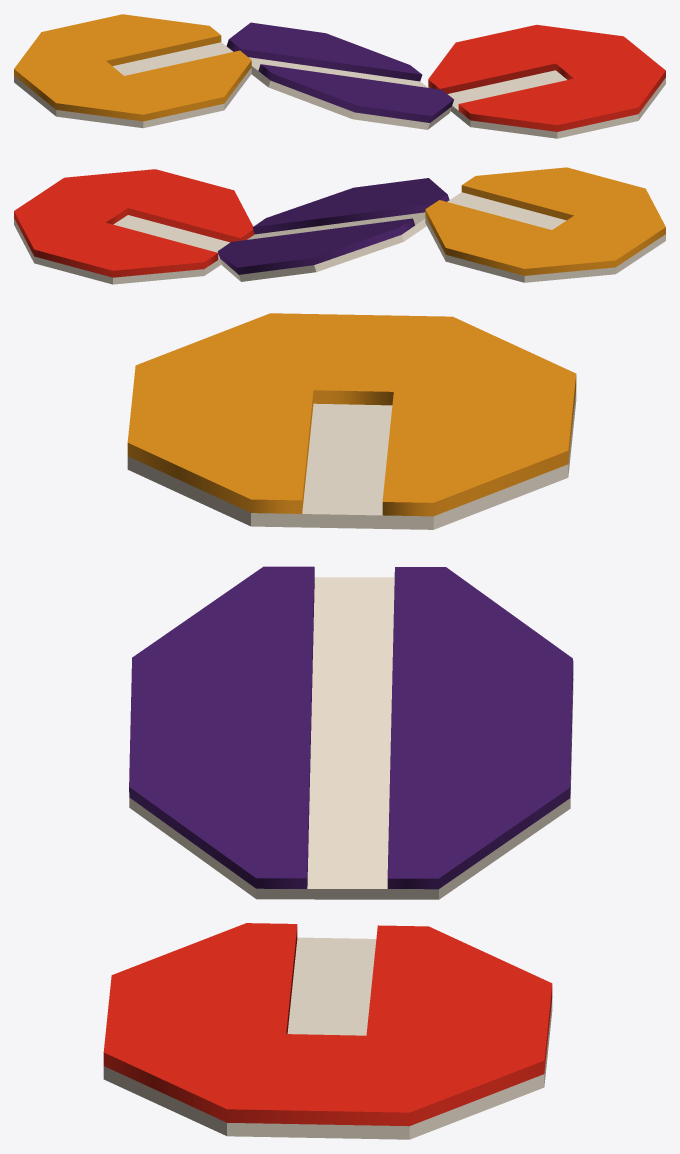
The model's file is Lvl_001.FBX.
The picture shows the model from 3 angles, top to bottom: view 1: azimuth 30°, elevation 25°; view 2: azimuth 150°, elevation 25°; view 3: azimuth 270°, elevation 25°; orthographic projection. The views are drawn at different scales.
Visible parts, largest first — view 1: NGon050; view 2: NGon050; view 3: NGon050.
Boxes of the visible parts, x1,y1,x2,y2 form: NGon050: [14, 14, 665, 138]; NGon050: [14, 167, 665, 284]; NGon050: [103, 313, 576, 1139].
Bounding box in the file's own units: 46.62 × 8.82 × 15.84.
